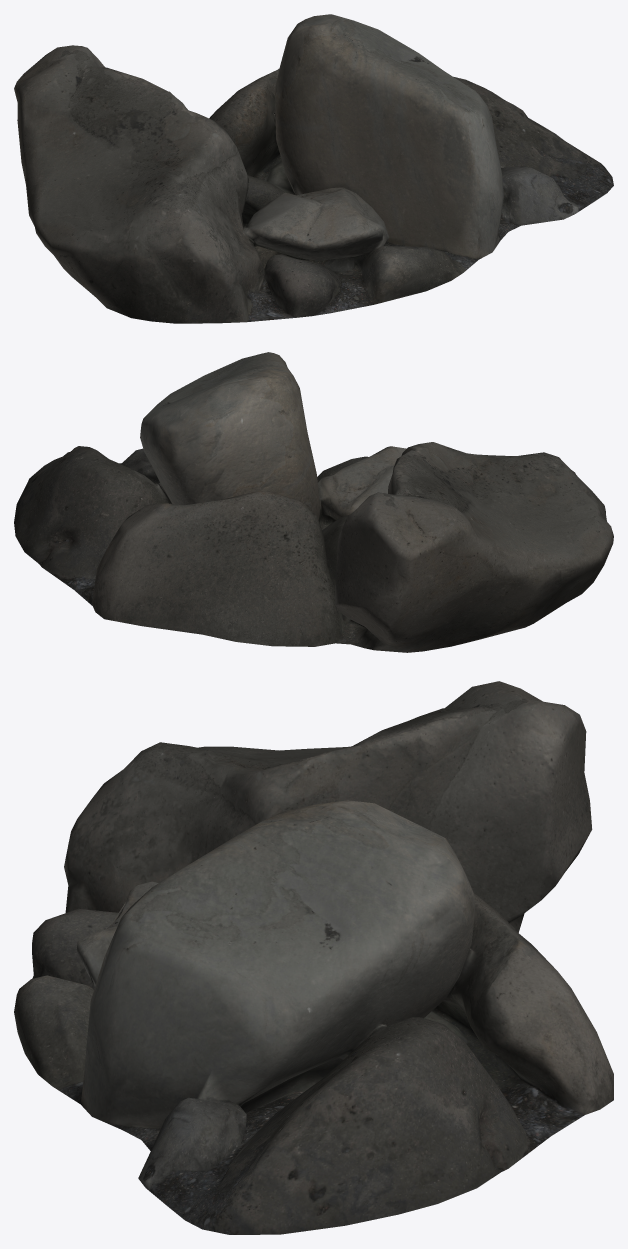
Rendered from SM_yh2lfc1ga_tier_2.gltf.
The picture shows the model from 3 angles, top to bottom: view 1: azimuth 30°, elevation 25°; view 2: azimuth 150°, elevation 25°; view 3: azimuth 270°, elevation 25°; orthographic projection. The views are drawn at different scales.
Parts seen in each view (by area): view 1: yh2lfc1ga_LOD2_TIER2_000; view 2: yh2lfc1ga_LOD2_TIER2_000; view 3: yh2lfc1ga_LOD2_TIER2_000.
Part boxes in pixels (left/top/right/bottom): yh2lfc1ga_LOD2_TIER2_000: left=14, top=14, right=613, bottom=323; yh2lfc1ga_LOD2_TIER2_000: left=14, top=352, right=613, bottom=652; yh2lfc1ga_LOD2_TIER2_000: left=14, top=681, right=613, bottom=1234.
Bounding box in the file's own units: 2.24 × 0.6949 × 1.46.
1 material, 1 textured.
